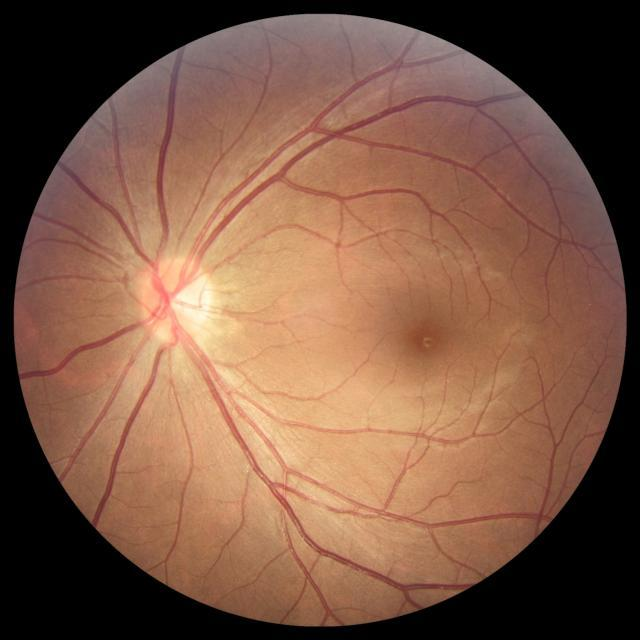OC: (158, 284, 199, 322)
OD: (140, 256, 211, 343)
